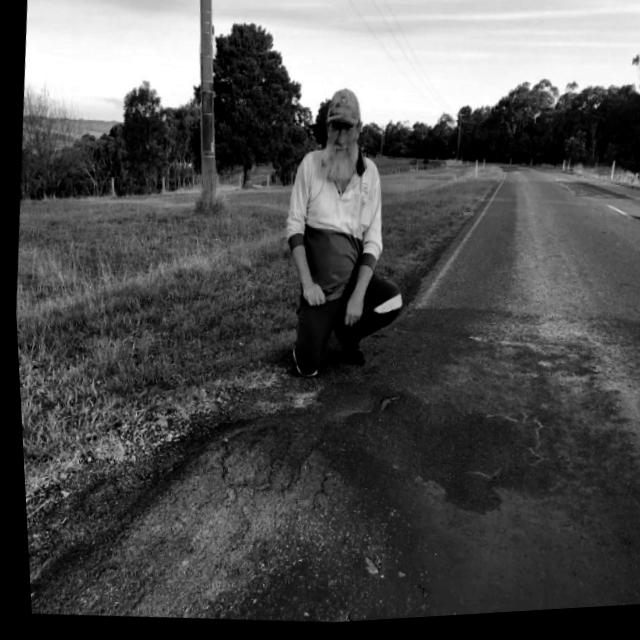pathole: (15, 370, 447, 626)
